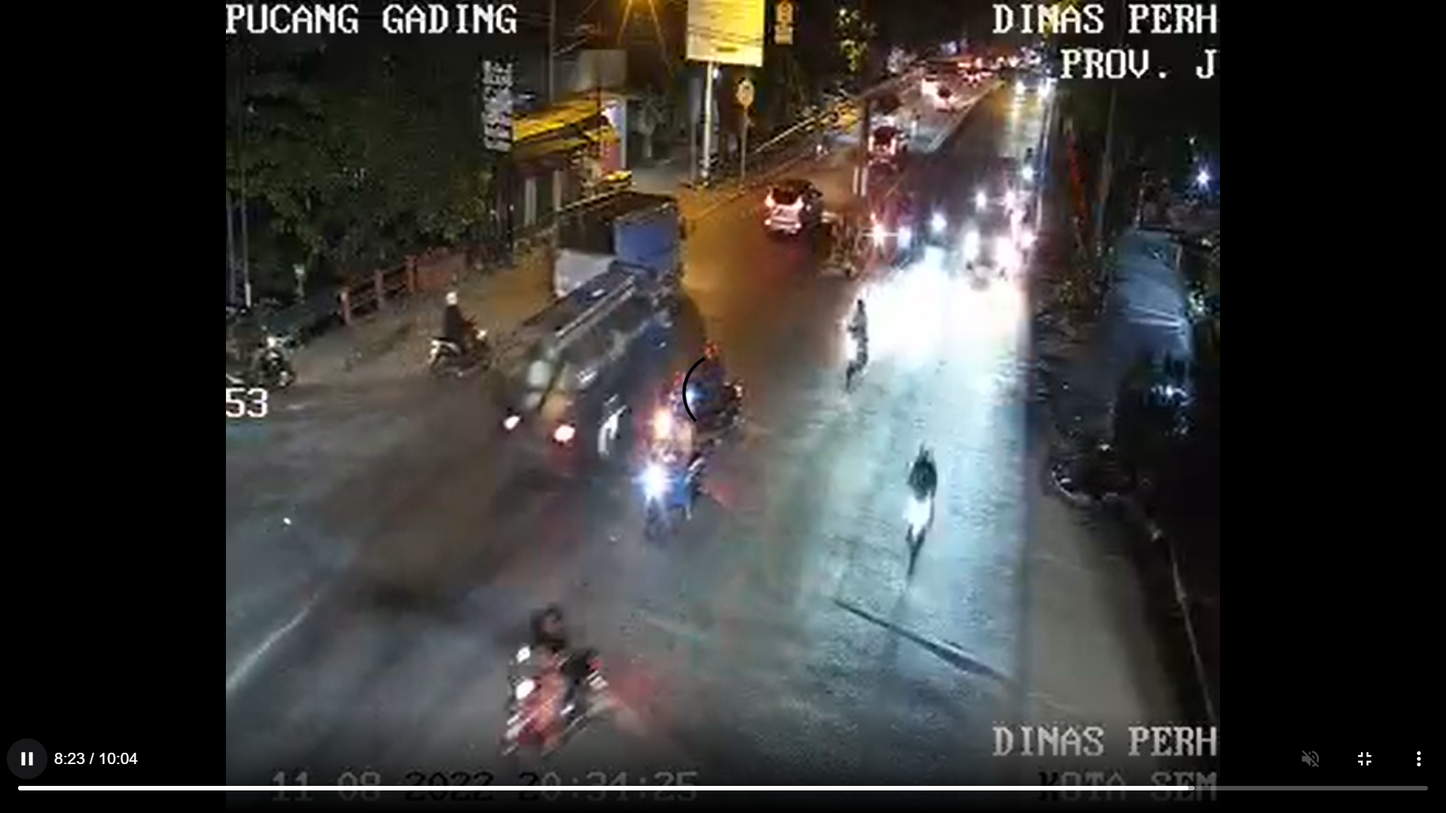without_helmet: (467, 589, 617, 776)
